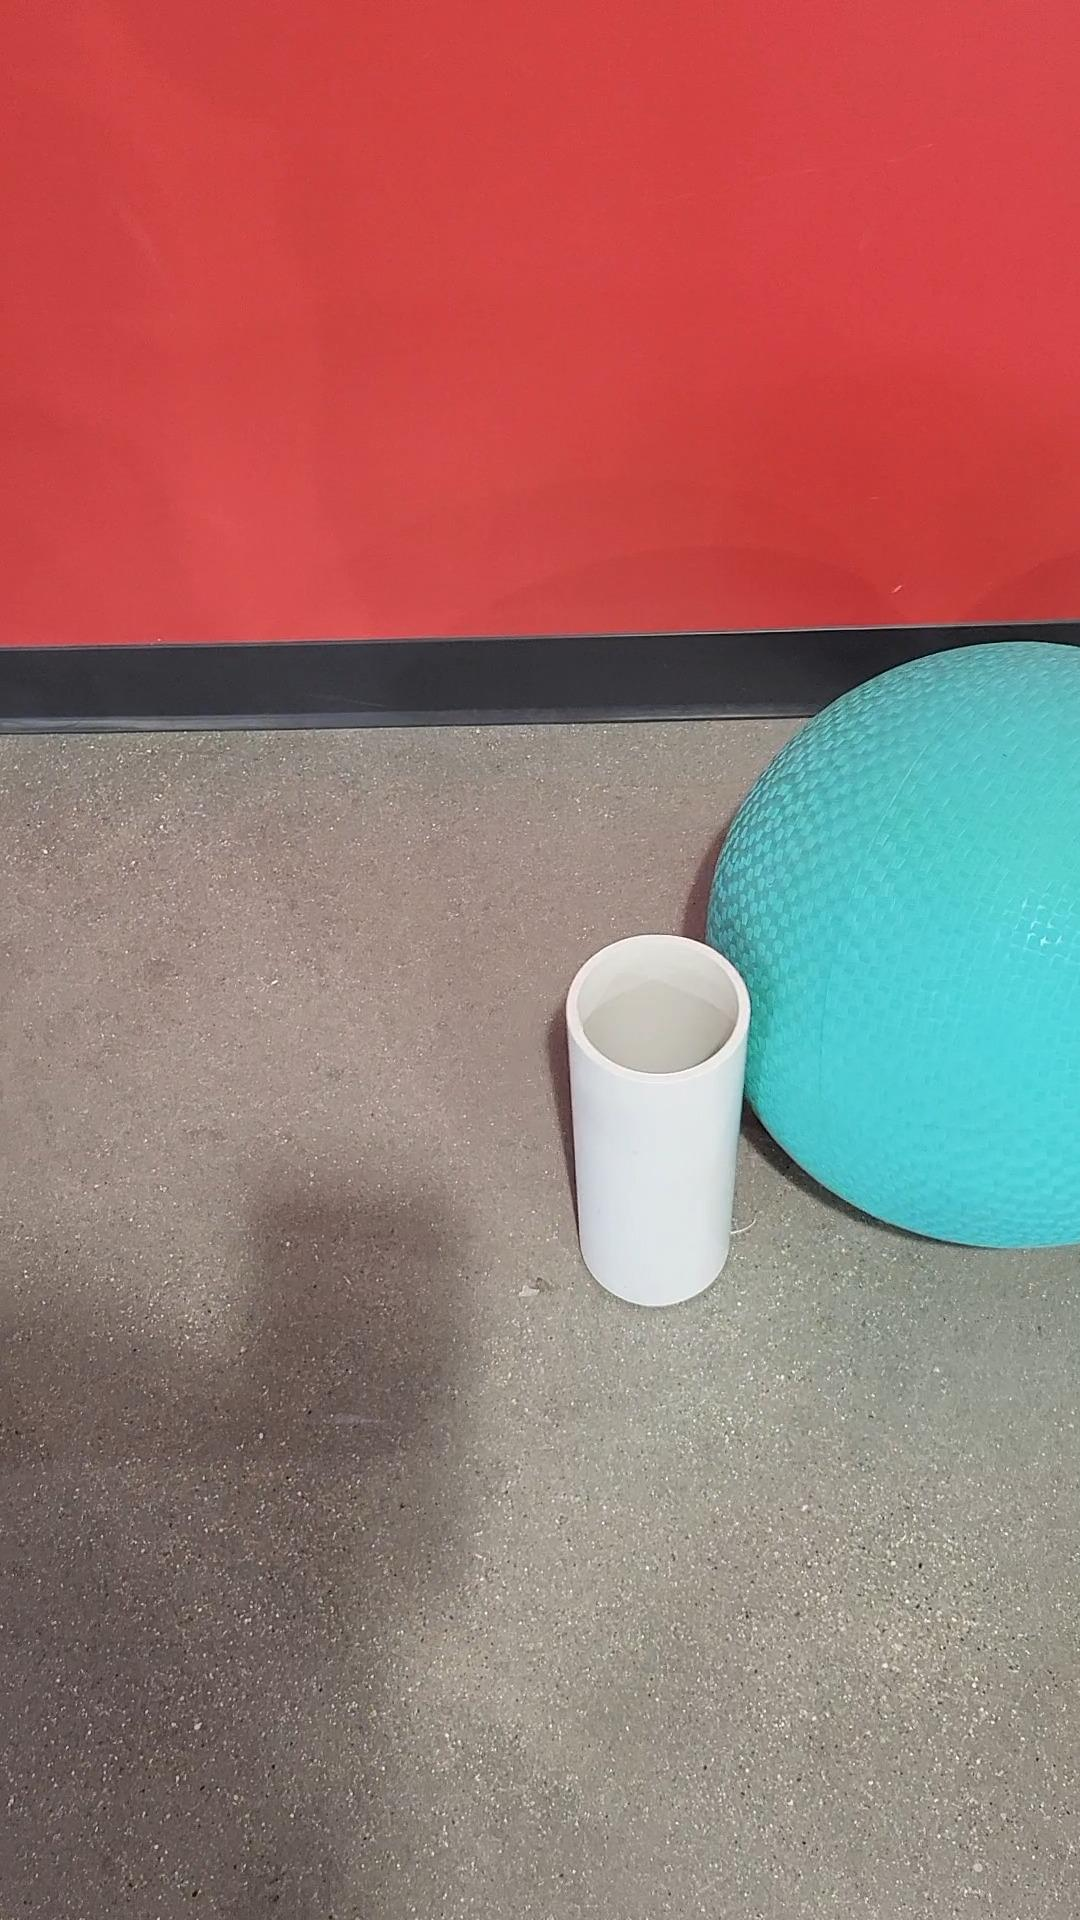algae: (700, 640, 1080, 1257)
coral: (564, 928, 756, 1312)
